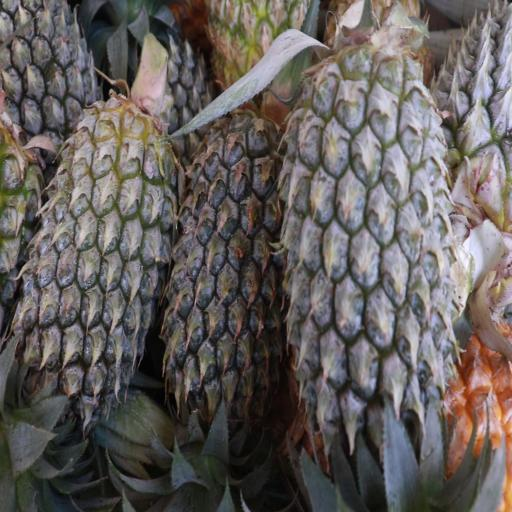------------------------------: (203, 0, 313, 113)
